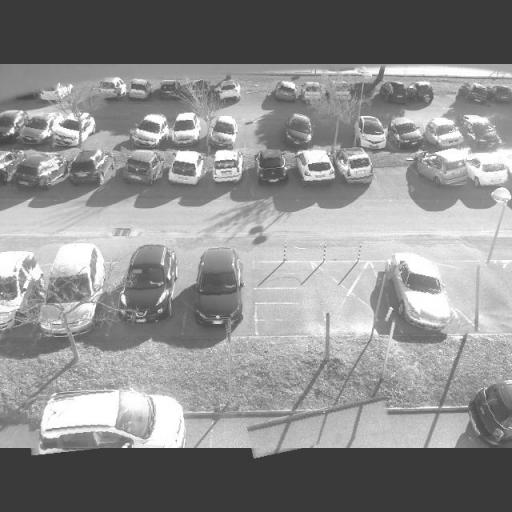busy: (27, 386, 184, 452), (381, 253, 461, 331), (108, 243, 178, 322), (185, 246, 245, 326), (34, 244, 106, 303), (469, 379, 512, 445), (7, 151, 68, 193), (414, 150, 476, 191), (0, 252, 36, 310), (424, 124, 470, 166), (115, 149, 165, 187), (63, 150, 113, 186), (294, 147, 340, 186), (126, 110, 172, 148), (162, 150, 206, 188), (466, 152, 510, 189), (459, 115, 504, 151), (384, 115, 427, 152), (278, 112, 318, 150), (250, 150, 292, 186), (424, 117, 466, 152), (336, 148, 376, 184), (16, 112, 58, 146), (167, 112, 206, 148), (207, 150, 246, 184), (50, 114, 89, 148), (204, 116, 241, 150), (352, 118, 390, 149), (374, 82, 413, 106), (460, 82, 494, 106), (93, 78, 126, 101), (212, 79, 241, 105), (0, 112, 24, 143), (124, 78, 154, 102), (0, 152, 18, 190), (406, 80, 434, 104), (271, 80, 300, 102), (188, 80, 214, 101), (486, 86, 512, 106), (157, 80, 181, 98)
free: (247, 402, 390, 452), (448, 262, 512, 332), (373, 159, 419, 193), (241, 122, 277, 146), (99, 125, 130, 147), (66, 82, 102, 100), (311, 122, 335, 145), (244, 86, 268, 104), (434, 86, 456, 101), (496, 124, 510, 143)
